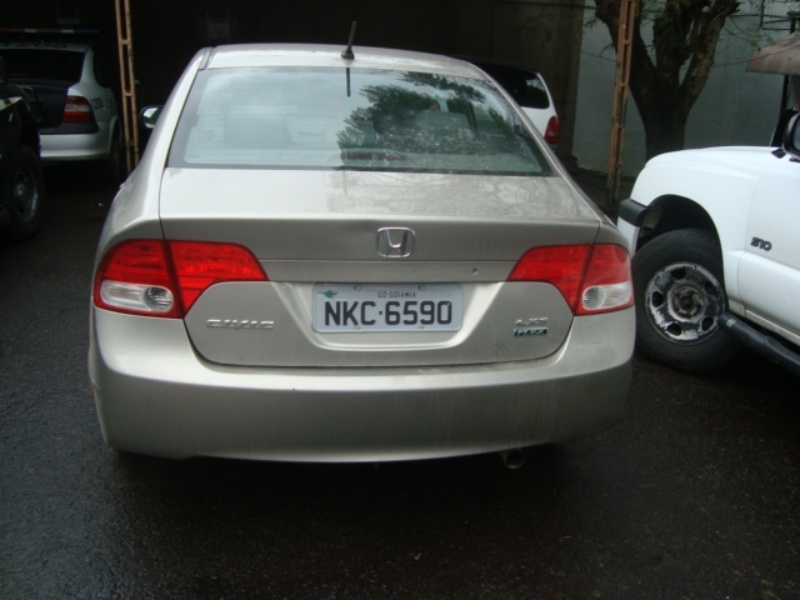placa: (311, 281, 466, 333)
